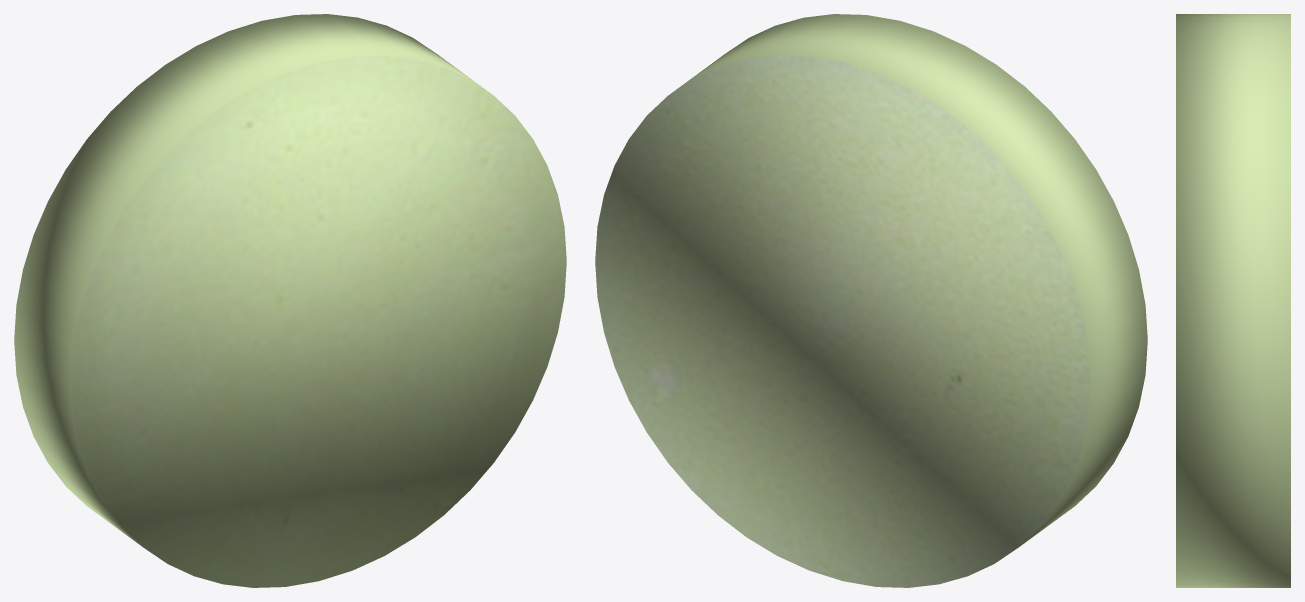
File: 20140311GOPHDRGPT01987.fbx
The picture shows the model from 3 angles, left to right: view 1: azimuth 30°, elevation 25°; view 2: azimuth 150°, elevation 25°; view 3: azimuth 270°, elevation 25°; orthographic projection.
Parts seen in each view (by area): view 1: 貝茲圓.005; view 2: 貝茲圓.005; view 3: 貝茲圓.005.
Boxes of the visible parts, bbox=[...] form: 貝茲圓.005: bbox=[14, 14, 566, 587]; 貝茲圓.005: bbox=[595, 14, 1147, 587]; 貝茲圓.005: bbox=[1176, 14, 1290, 587].
Size of the model in its own units: 1.19 by 1.19 by 0.2379.
